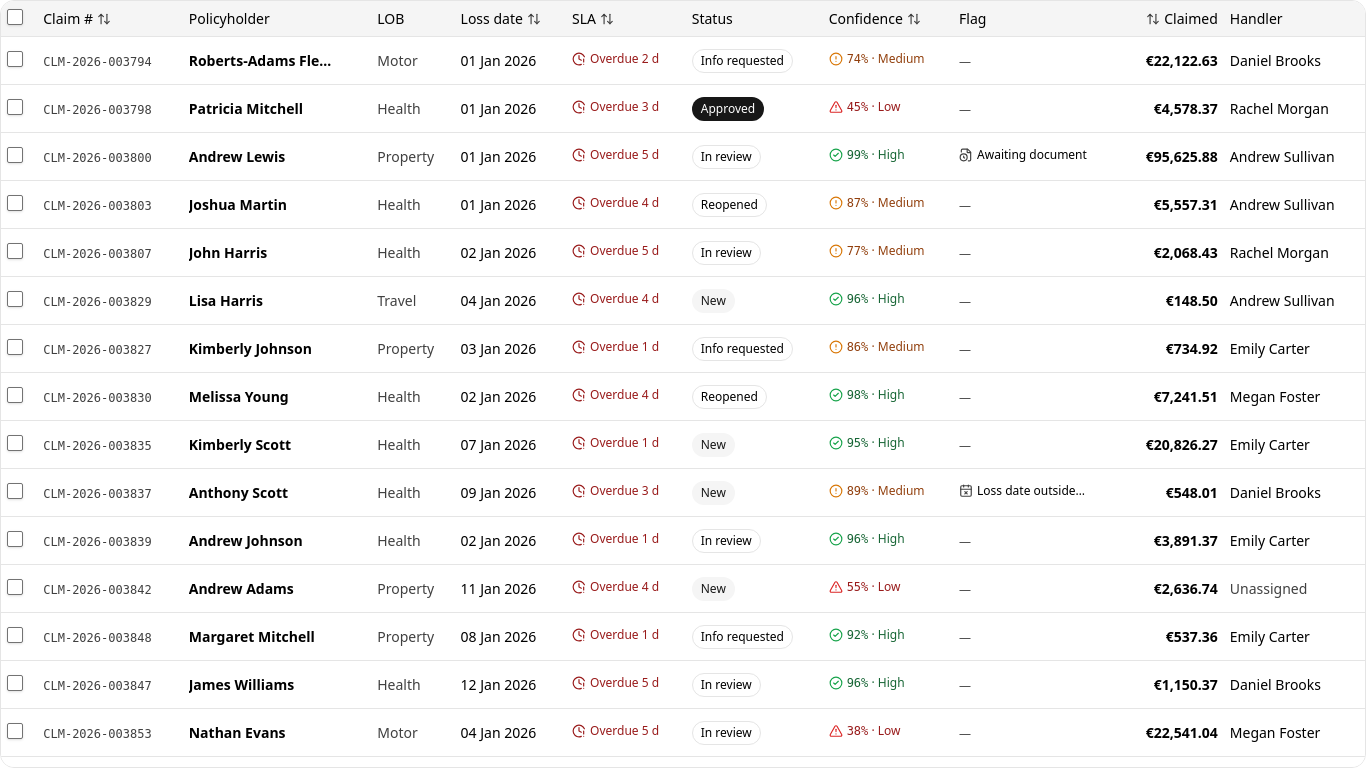
Test: ClaimsTable › selection › select all selects every row on the page only
This screenshot has width=1366, height=768.
Click the checkbox named "Select all claims on this page" at (15, 17), box [7,9,23,25]
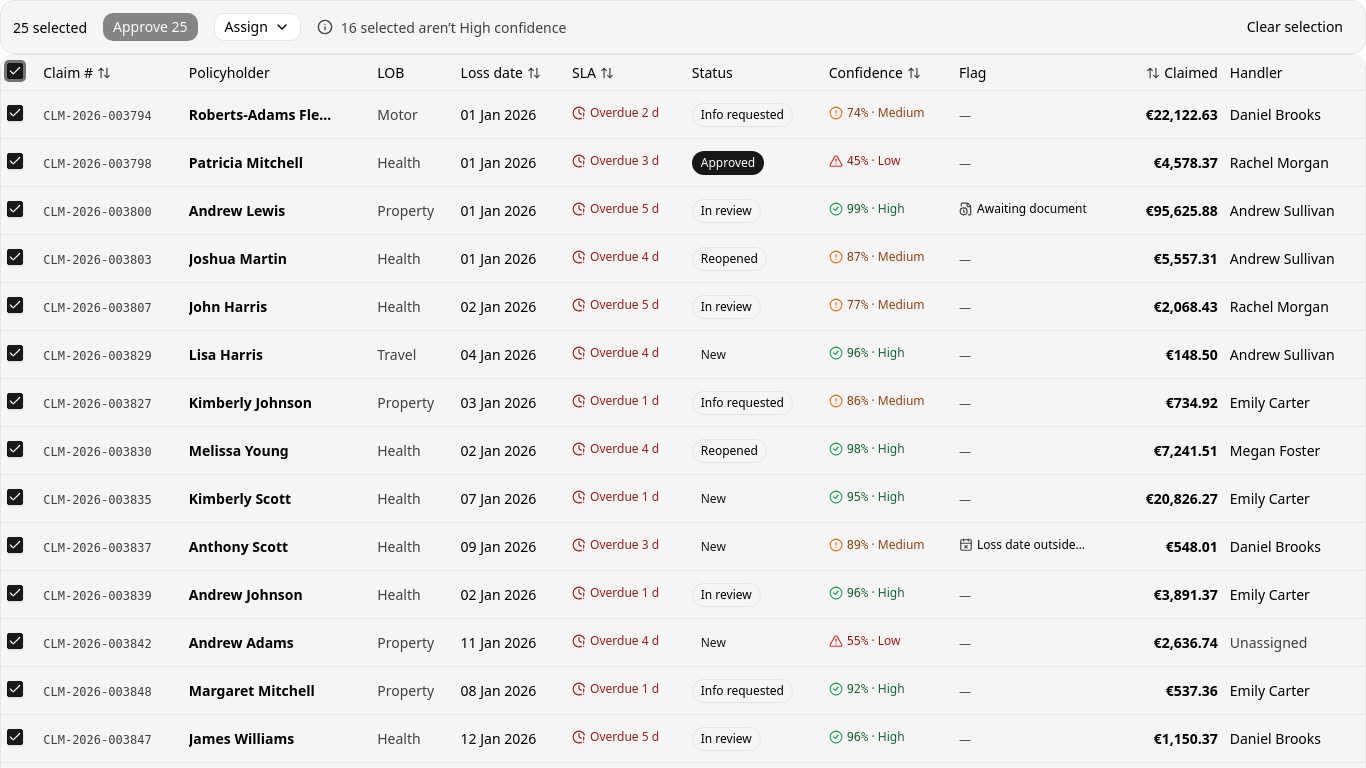
Check: the text "25 selected" is shown, box [13,16,87,38]
Check: the button "Approve 25" is disabled, box [103,13,198,41]
